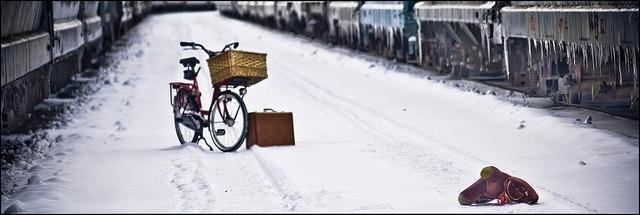bicycle: (170, 42, 268, 152)
